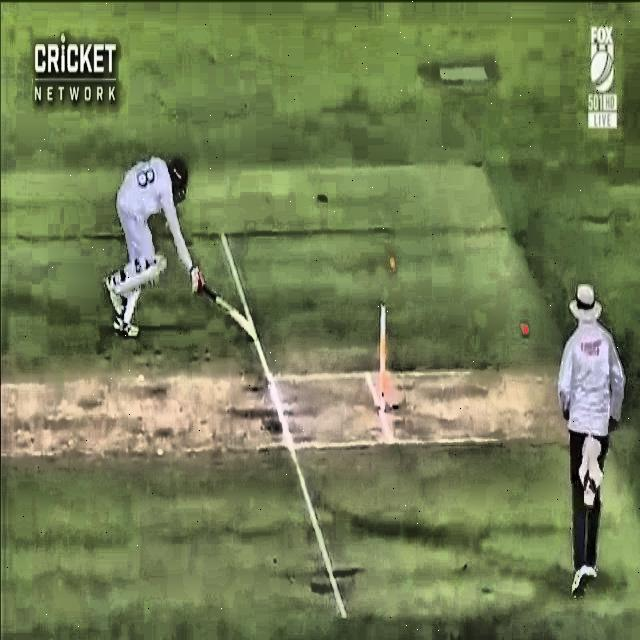Ball: (512, 313, 538, 344)
Dis_Wicket: (368, 242, 404, 416)
Pitch_Line: (251, 333, 345, 620), (215, 234, 264, 334), (254, 325, 259, 343)
